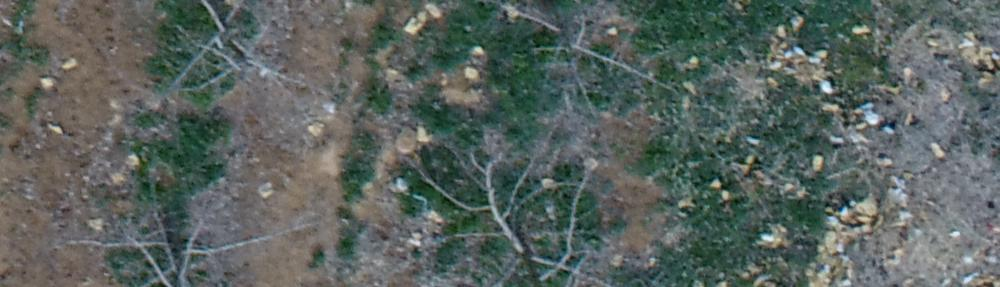apple: (408, 133, 621, 277), (100, 10, 346, 132), (490, 10, 714, 136)
